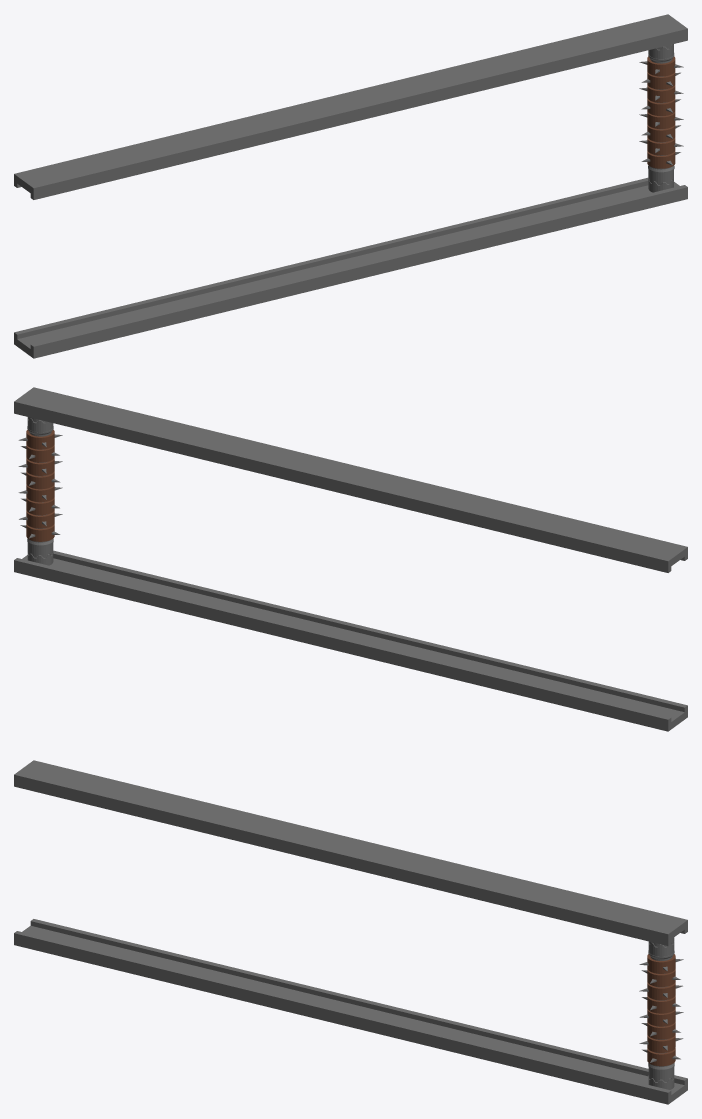
The model's file is grinderTrap.fbx.
3 views of the same model, one above another, from view 1: azimuth 30°, elevation 25°; view 2: azimuth 150°, elevation 25°; view 3: azimuth 330°, elevation 25° (orthographic).
Visible parts, largest first — view 1: Cube, Cube.001, Cylinder.002; view 2: Cube, Cube.001, Cylinder.002; view 3: Cube, Cube.001, Cylinder.002.
Part boxes in pixels (bbox=[...]): Cube: bbox=[14, 14, 687, 199]; Cube.001: bbox=[14, 177, 687, 358]; Cylinder.002: bbox=[639, 44, 683, 192]; Cube: bbox=[14, 387, 687, 572]; Cube.001: bbox=[14, 550, 687, 731]; Cylinder.002: bbox=[18, 417, 62, 565]; Cube: bbox=[14, 760, 687, 945]; Cube.001: bbox=[14, 919, 687, 1104]; Cylinder.002: bbox=[639, 937, 683, 1089].
Bounding box in the file's own units: 8027 × 1987 × 493.
